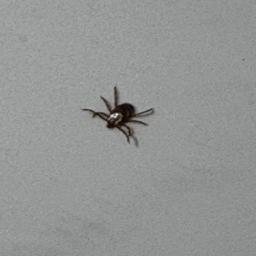Dermacentor variabilis: (81, 87, 155, 144)
